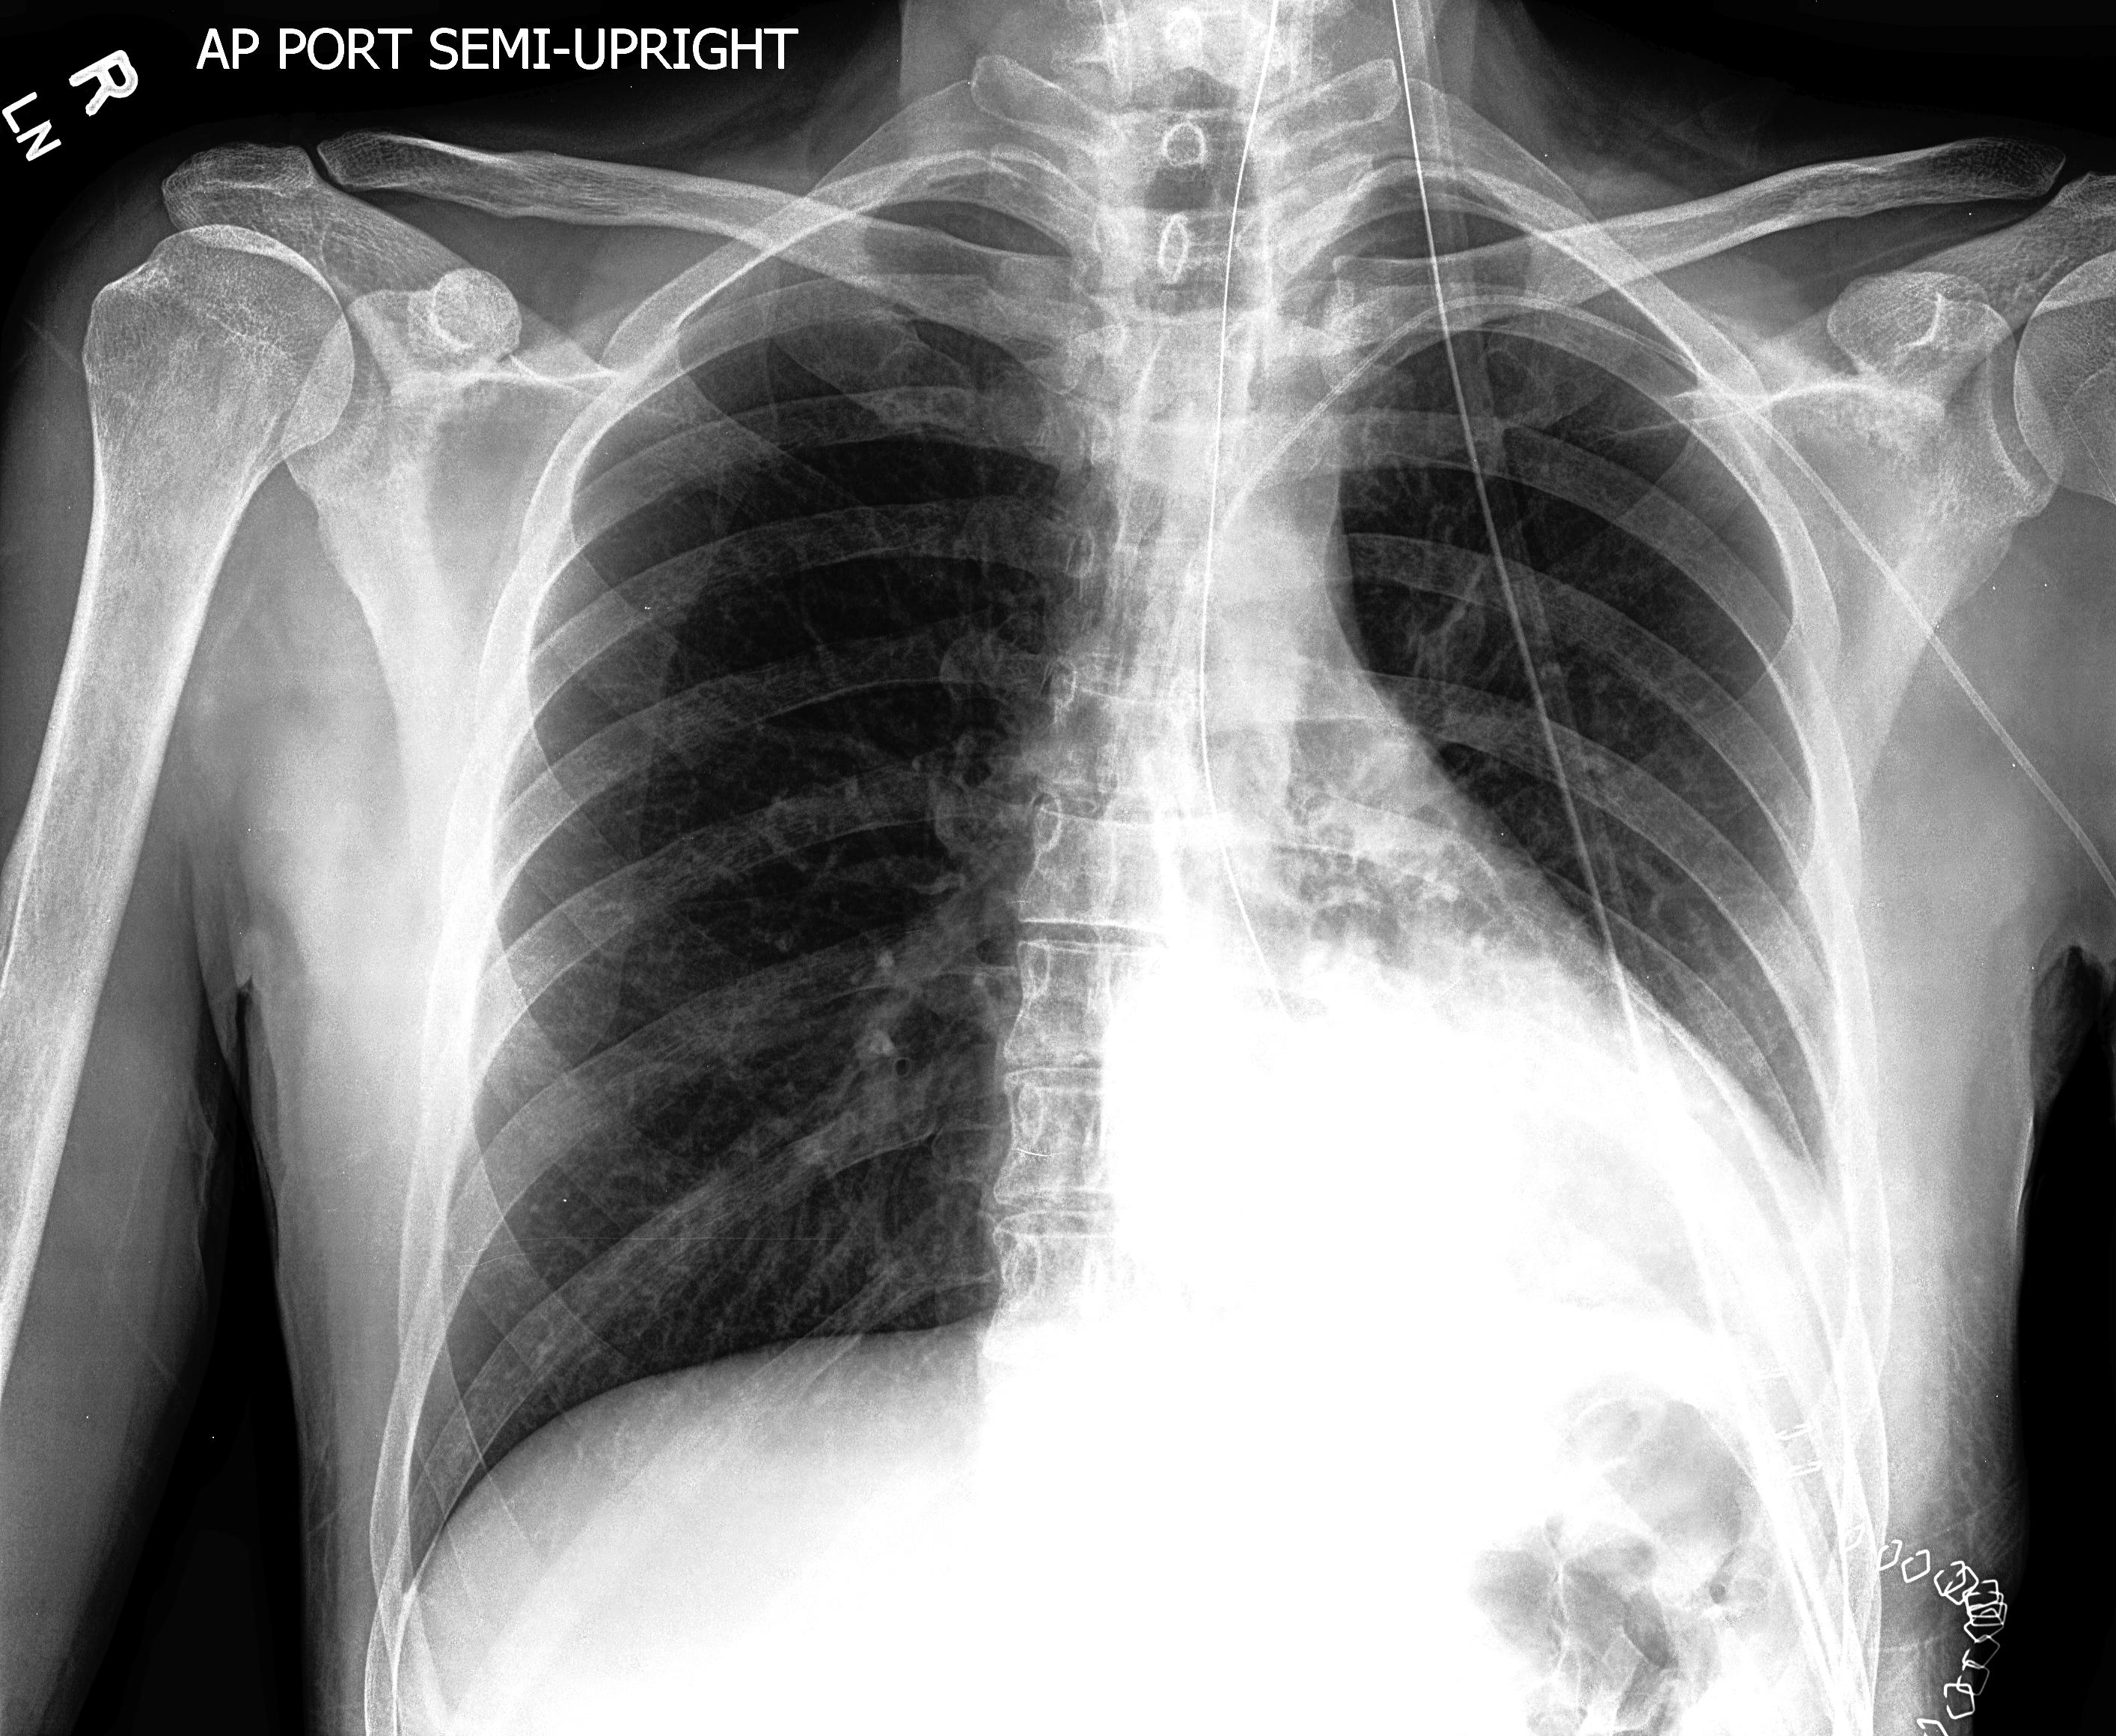Pleural Effusion: (1529, 1110, 1898, 1469)
